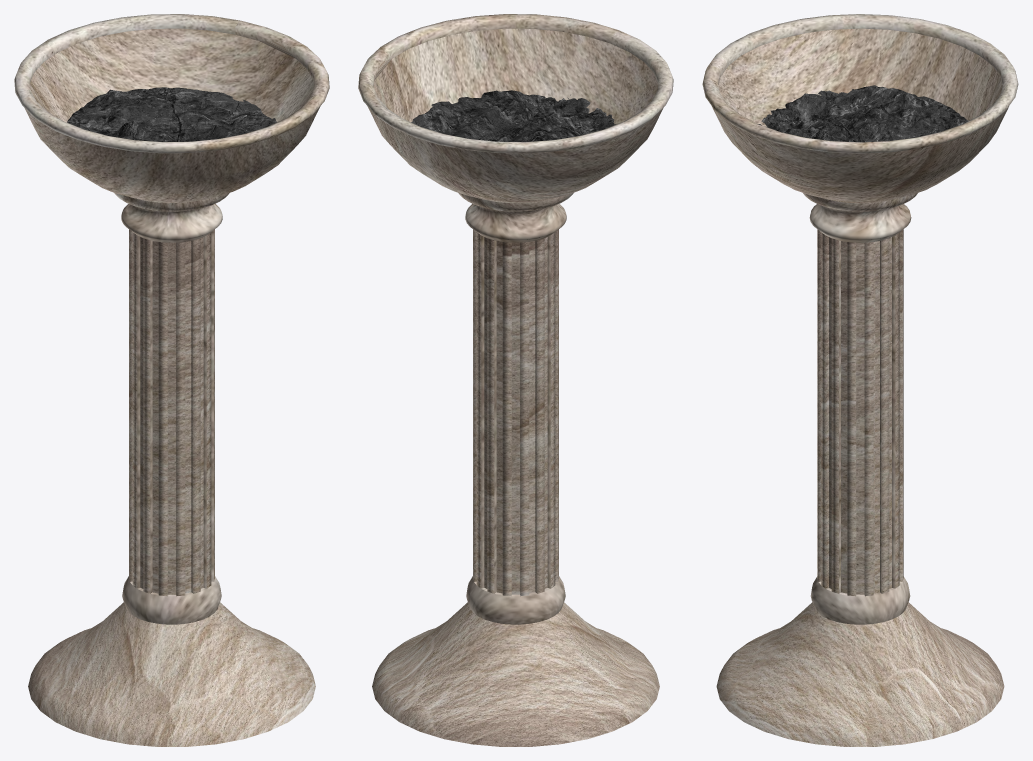
Rendered from es_antorcha.obj.
3 views of the same model, side by side, from view 1: azimuth 30°, elevation 25°; view 2: azimuth 150°, elevation 25°; view 3: azimuth 270°, elevation 25° (orthographic).
Parts seen in each view (by area): view 1: Cylinder_Material.001, Cylinder_Material.002; view 2: Cylinder_Material.001, Cylinder_Material.002; view 3: Cylinder_Material.001, Cylinder_Material.002.
Part boxes in pixels (x1,y1,x2,y2): Cylinder_Material.001: (14, 14, 329, 746); Cylinder_Material.002: (67, 87, 276, 141); Cylinder_Material.001: (358, 14, 673, 746); Cylinder_Material.002: (411, 90, 615, 141); Cylinder_Material.001: (702, 14, 1018, 746); Cylinder_Material.002: (758, 85, 968, 142).
Size of the model in its own units: 1.1 by 2.34 by 1.1.
